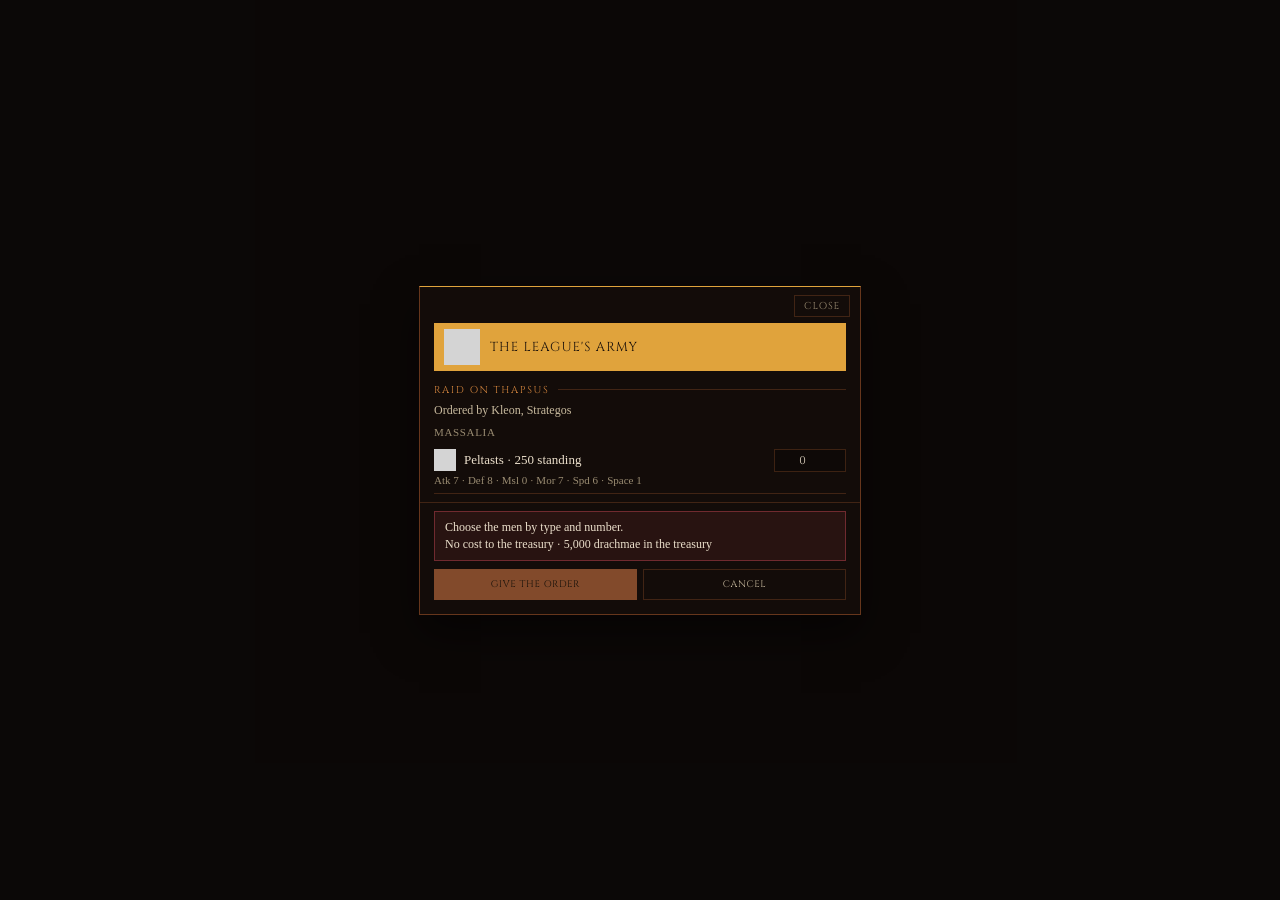
the League's order sheet and the treasury › before he gives it, the sheet shows the hulls, what the voyage's naval supplies cost the treasury, and the treasury's balance
Replace the text in the number field named "Peltasts from Massalia" with "40" at (810, 460), box [774,448,846,472]
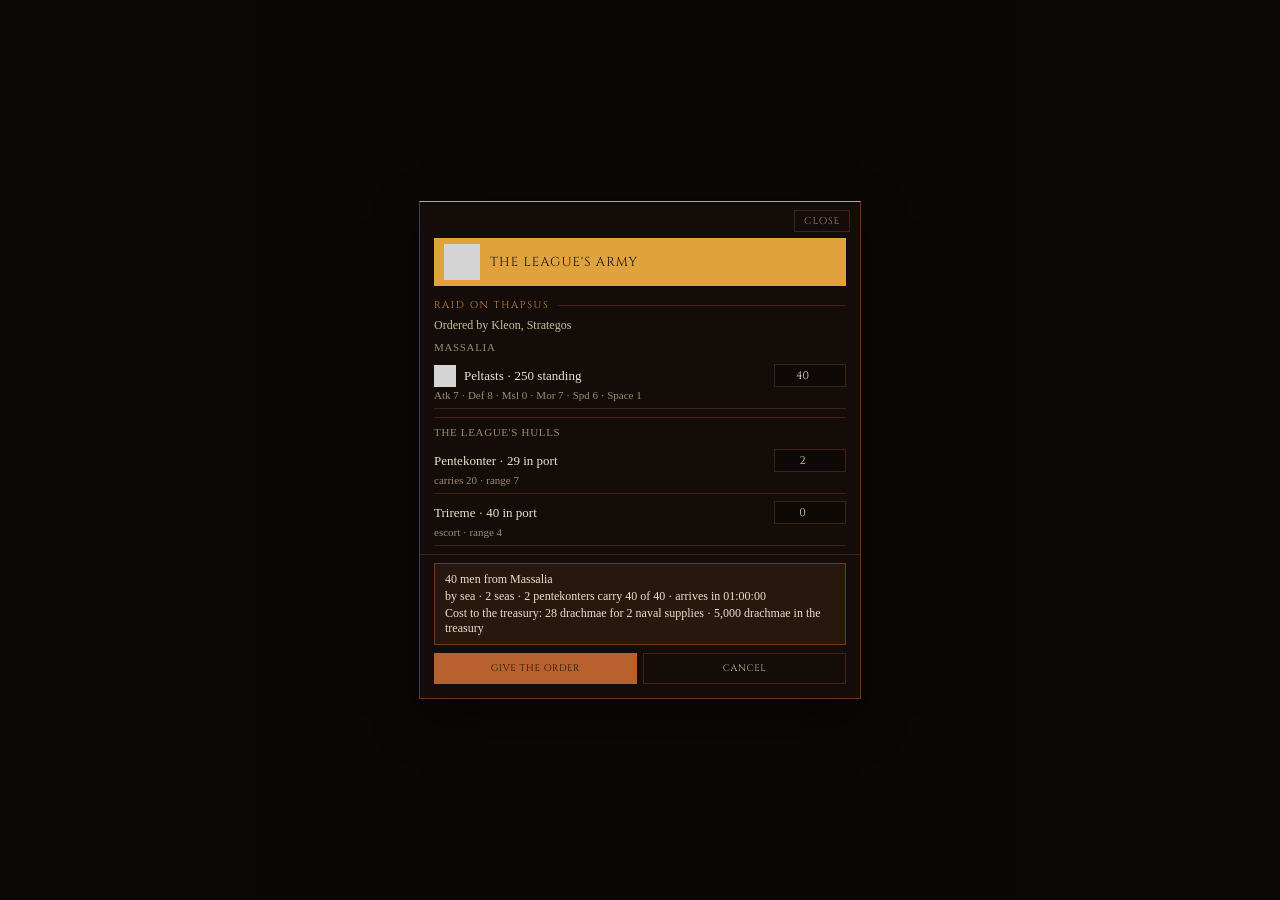
Expected: the text with test id "order-cost" shows "Cost to the treasury: 28 drachmae for 2 naval supplies · 5,000 drachmae in the treasury", [445,606,835,636]
Expected: the element with class "w2map-verdict" shows "40 men from Massalia", [434,563,846,645]
Expected: the element with class "w2map-verdict" shows "by sea · 2 seas · 2 pentekonters carry 40 of 40 · arrives in", [434,563,846,645]
Replace the text in the number field named "Triremes to sail" with "3" at (810, 512), box [774,501,846,524]
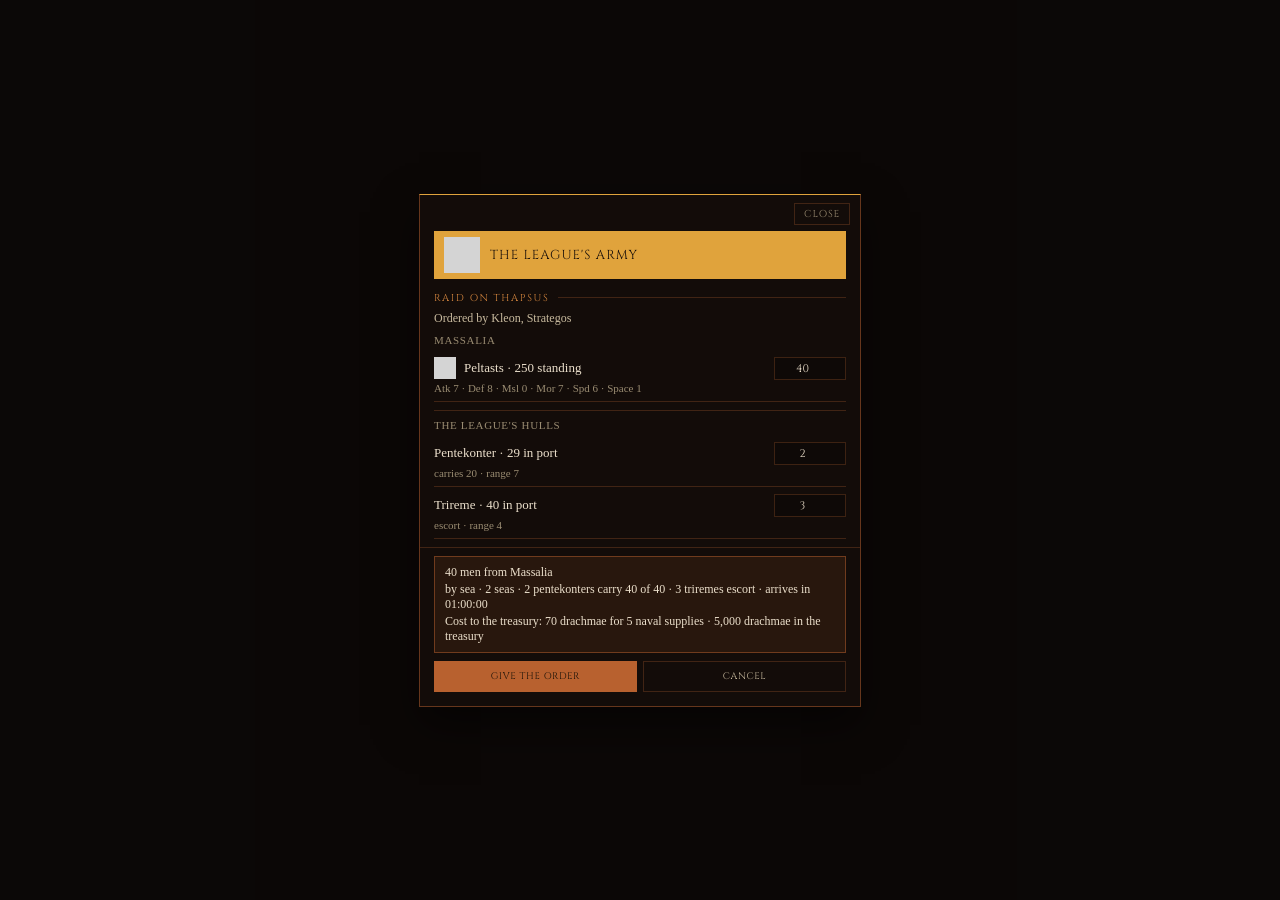
Expected: the text with test id "order-cost" shows "Cost to the treasury: 70 drachmae for 5 naval supplies · 5,000 drachmae in the treasury", [445,614,835,644]
Expected: the element with class "w2map-verdict" shows "3 triremes escort", [445,582,755,596]
